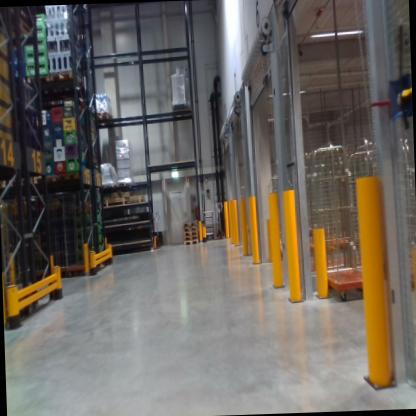pallet: (48, 70, 87, 95), (0, 8, 31, 37), (25, 72, 54, 93), (92, 197, 147, 206), (55, 167, 83, 183), (170, 102, 193, 120), (33, 173, 60, 188), (99, 181, 116, 196), (13, 176, 34, 188), (94, 110, 113, 122), (0, 176, 11, 191), (183, 222, 199, 232), (182, 219, 198, 228), (116, 180, 130, 190), (183, 235, 199, 242), (184, 240, 201, 246), (182, 231, 198, 237)
pallet_truck: (211, 200, 227, 242), (147, 210, 163, 249)
